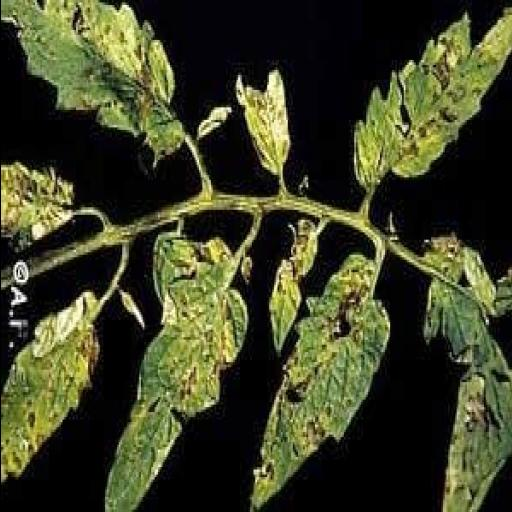disease_tomato: (100, 238, 250, 512), (250, 250, 392, 512), (351, 11, 512, 186), (2, 0, 188, 150), (422, 224, 512, 512), (0, 287, 98, 482), (266, 218, 318, 356), (0, 164, 72, 248), (235, 73, 292, 175)
